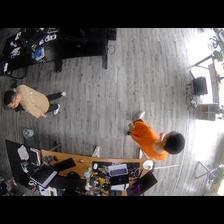normal: (5, 84, 64, 119)
